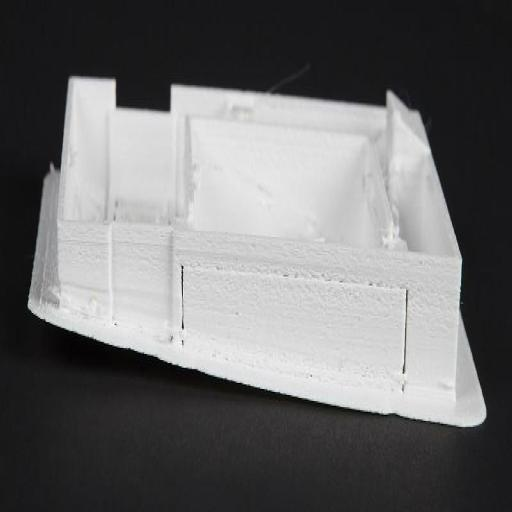cracks: (395, 289, 418, 403), (172, 258, 190, 360)
